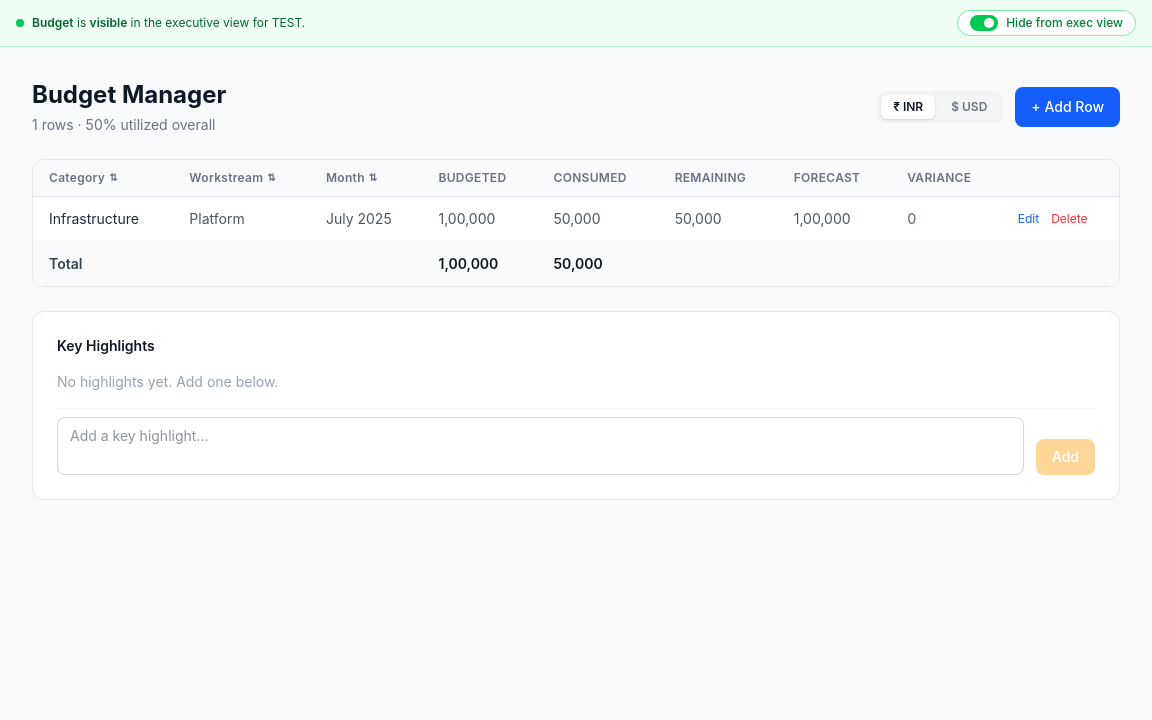
BudgetEditor › T-34.05: Delete button removes the budget row
Expected: the text "Infrastructure" is shown, x1=33 y1=196 x2=173 y2=242
Click the button "Delete" at (1069, 219), box x1=1051 y1=211 x2=1088 y2=227
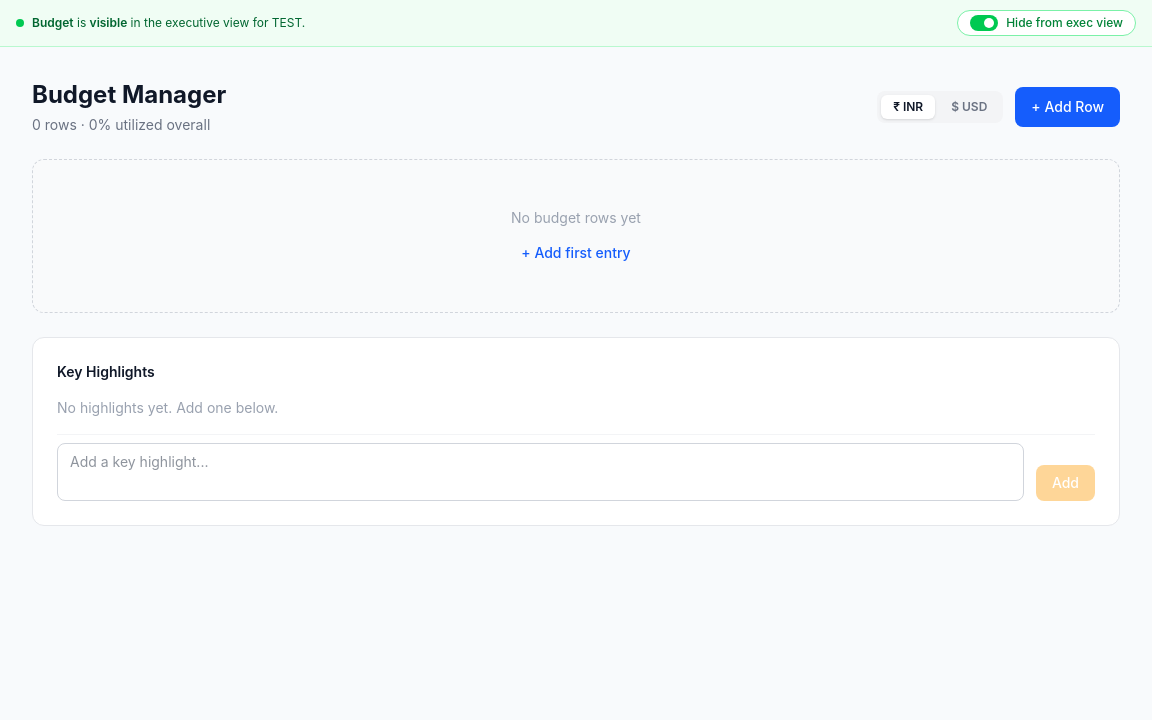
Expected: the text "Infrastructure" is gone
